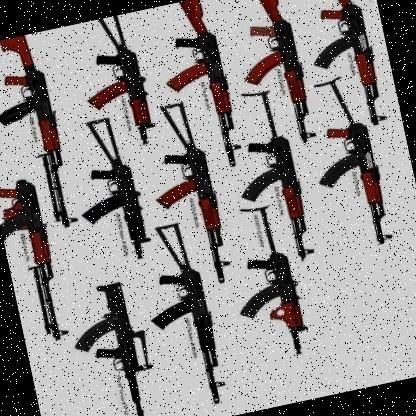rifle: (128, 217, 234, 416), (297, 72, 400, 258), (143, 97, 239, 293), (0, 30, 85, 239), (218, 88, 314, 269), (150, 0, 245, 169), (215, 203, 308, 370), (58, 276, 162, 416), (61, 112, 153, 268), (288, 0, 394, 131), (218, 0, 314, 143), (77, 11, 164, 149), (0, 173, 67, 344)
